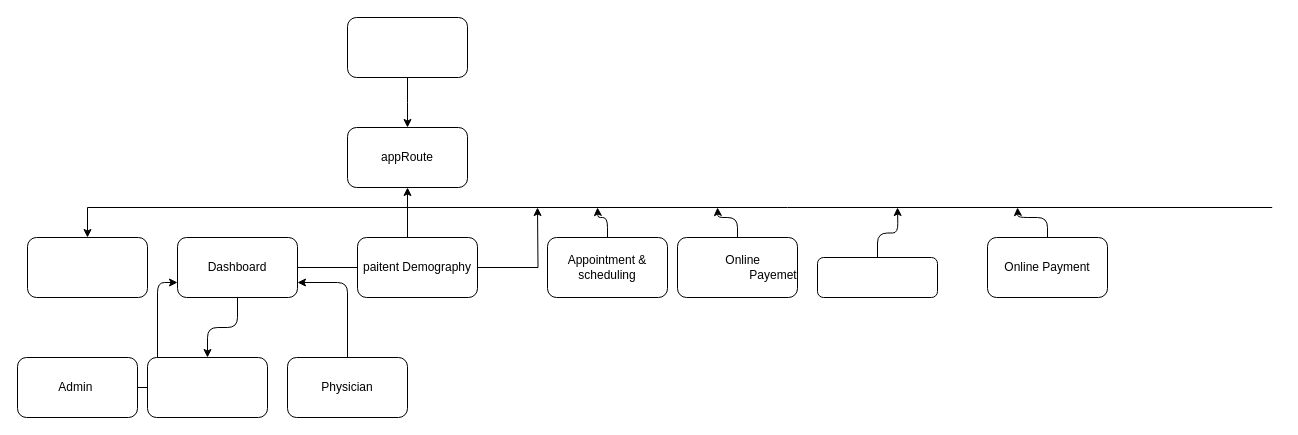
Image size: 1298x435. Some labels were removed from this diagram. Each missing label, with the box of its shape:
Orders: (816, 256, 938, 298)
Paitent: (146, 356, 268, 418)
Paitent Portal: (346, 16, 468, 78)
Registration: (26, 236, 148, 298)
